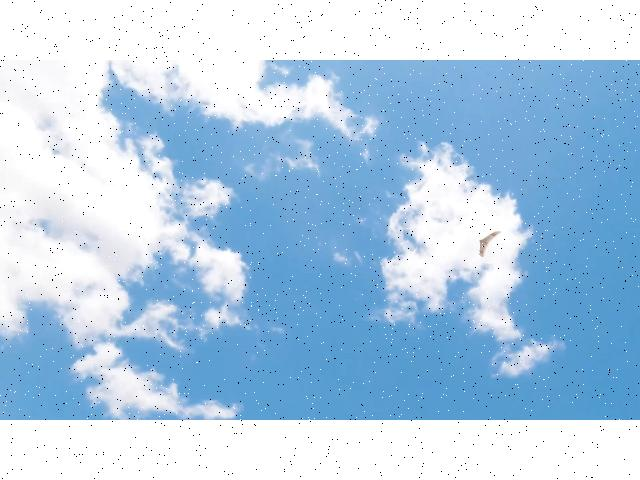Anti-Drone: (472, 217, 506, 268)
